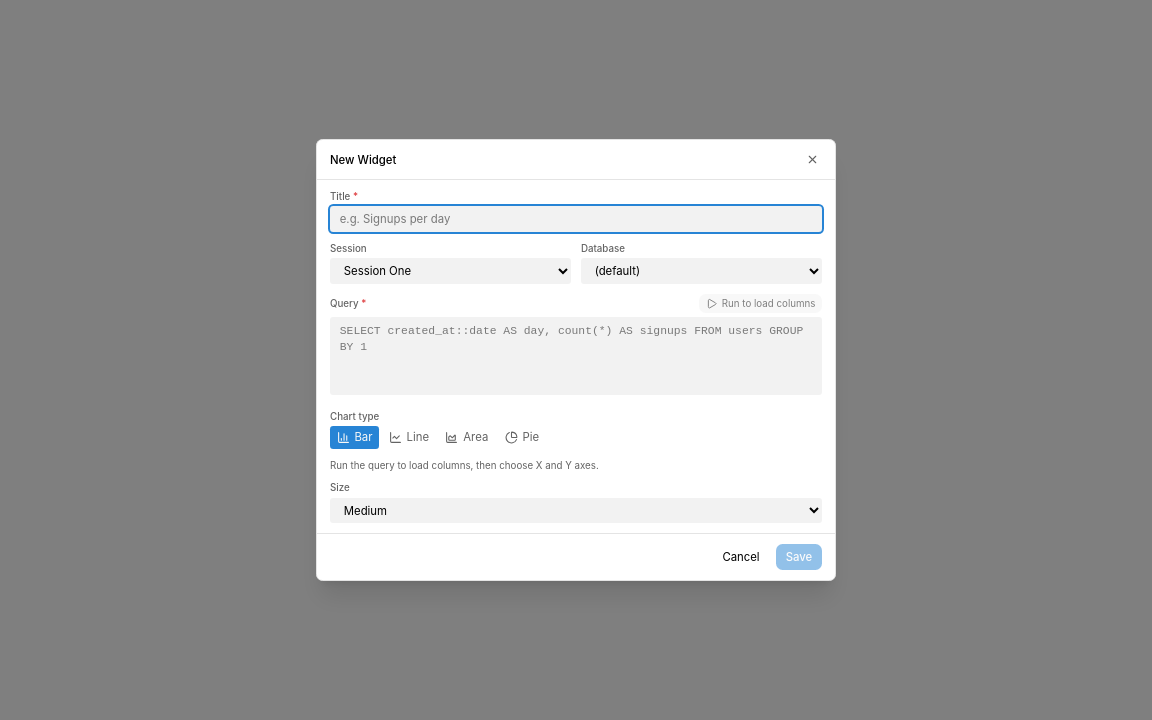
it: WidgetEditor › surfaces a run error message when executeQuery rejects
Type "SELECT 1" into the text box with placeholder "SELECT created_at" at (576, 356), box [330, 317, 822, 395]
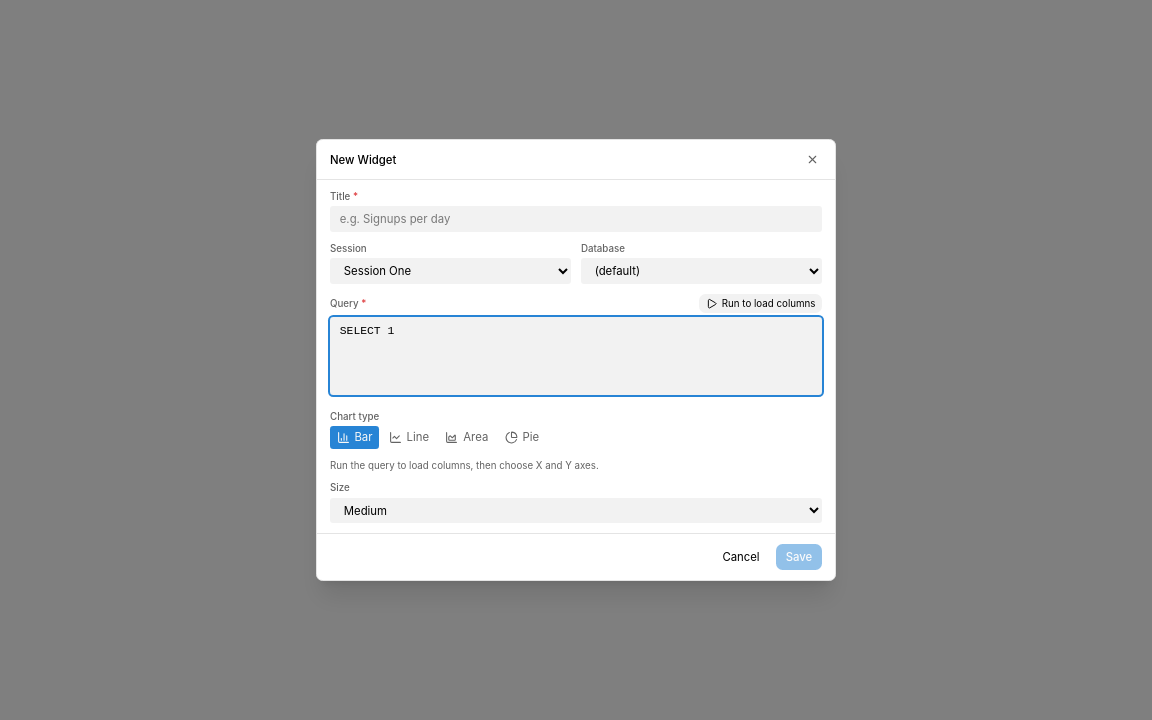
Click the button "Run to load columns" at (760, 304), box [699, 294, 822, 313]
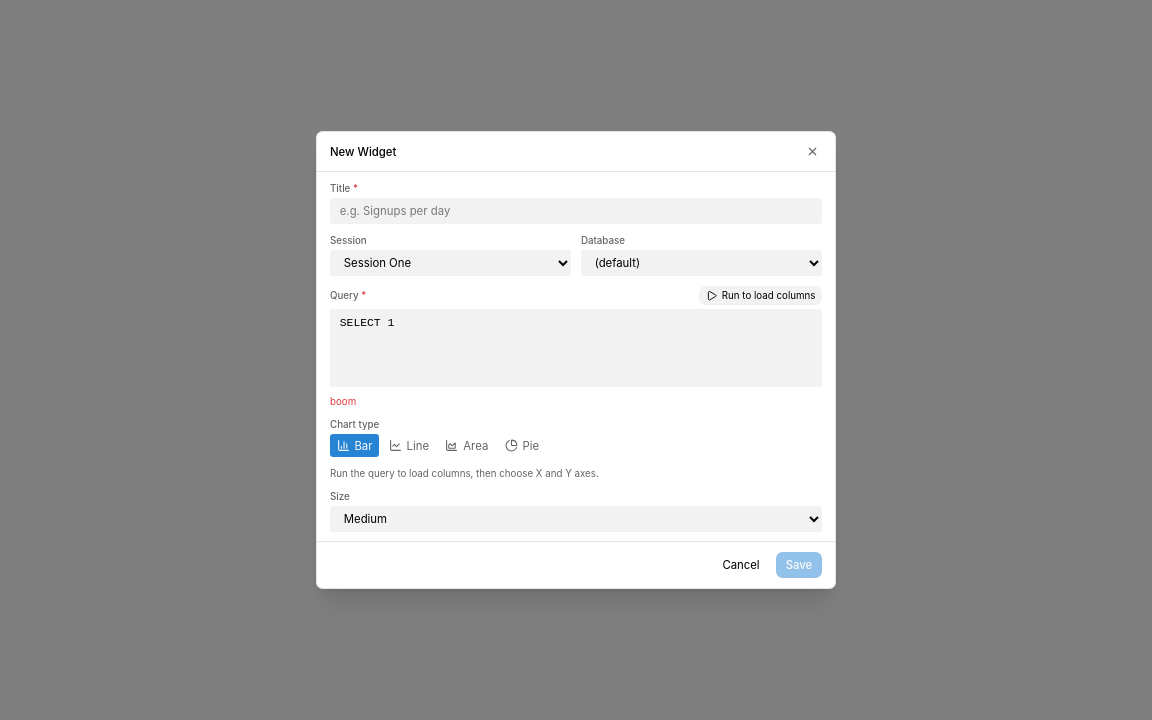
Expected: the text "boom" is shown, [330, 396, 356, 407]
